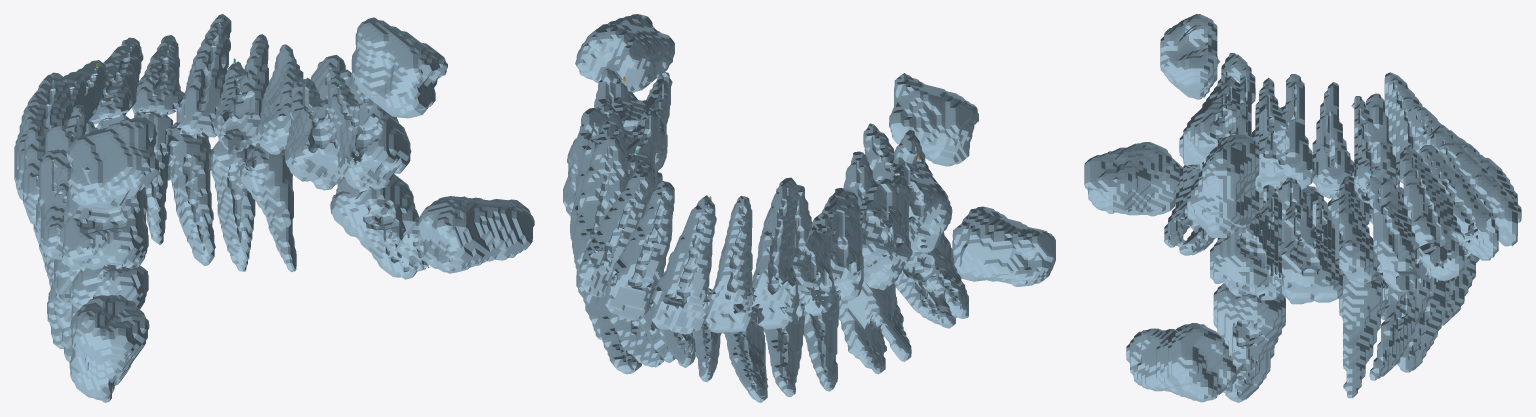
File: STS25_Train_Labeled_0012.glb
3 renders of one model, left to right at view 1: azimuth 30°, elevation 25°; view 2: azimuth 150°, elevation 25°; view 3: azimuth 270°, elevation 25°, orthographic. The views are drawn at different scales.
Parts seen in each view (by area): view 1: teeth__1, teeth__12; view 2: teeth__1, teeth__12; view 3: teeth__1, teeth__12.
Part boxes in pixels (x1,y1,x2,y2): teeth__1: [14, 14, 428, 362]; teeth__12: [66, 17, 534, 402]; teeth__1: [570, 68, 968, 402]; teeth__12: [563, 14, 1055, 286]; teeth__1: [1164, 53, 1521, 402]; teeth__12: [1084, 14, 1259, 402].
Bounding box in the file's own units: 81.48 × 48.55 × 69.
